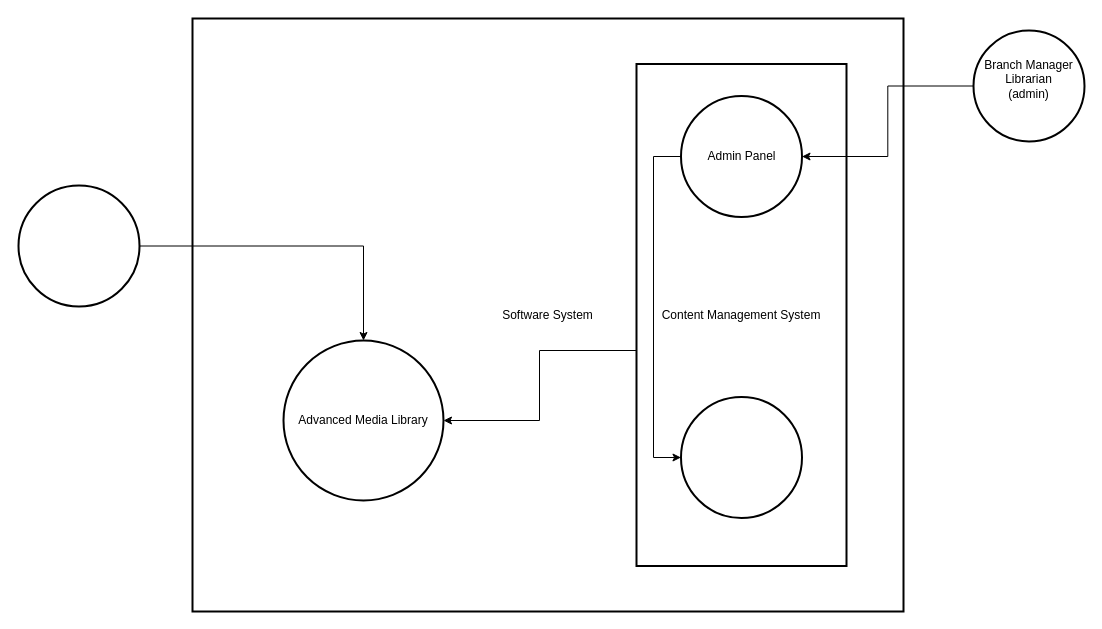
This 1102x629 diagram has some shape labels left out. The shapes that lost their labels are listed below. From the top down, each one's centre as x and y in pixels, then its label:
At [78,245]: "Library Member (user)".
At [741,457]: "Database".
